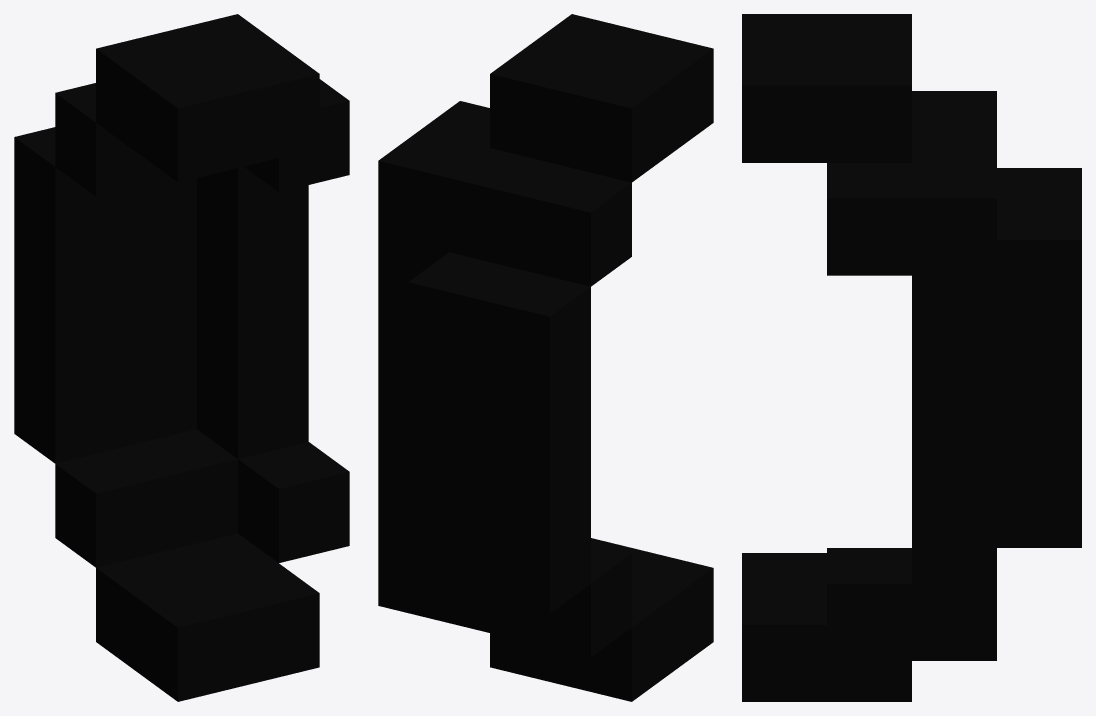
File: LargeGauge_Empty_Right.002.fbx
3 renders of one model, left to right at view 1: azimuth 30°, elevation 25°; view 2: azimuth 150°, elevation 25°; view 3: azimuth 270°, elevation 25°, orthographic. The views are drawn at different scales.
Parts seen in each view (by area): view 1: LargeGauge_Empty_Right.002; view 2: LargeGauge_Empty_Right.002; view 3: LargeGauge_Empty_Right.002.
Part boxes in pixels (box(x1,y1,x2,y2)): LargeGauge_Empty_Right.002: box(14, 14, 349, 701); LargeGauge_Empty_Right.002: box(378, 14, 713, 701); LargeGauge_Empty_Right.002: box(742, 14, 1081, 701).
Bounding box in the file's own units: 0.3 × 0.8 × 0.4.
